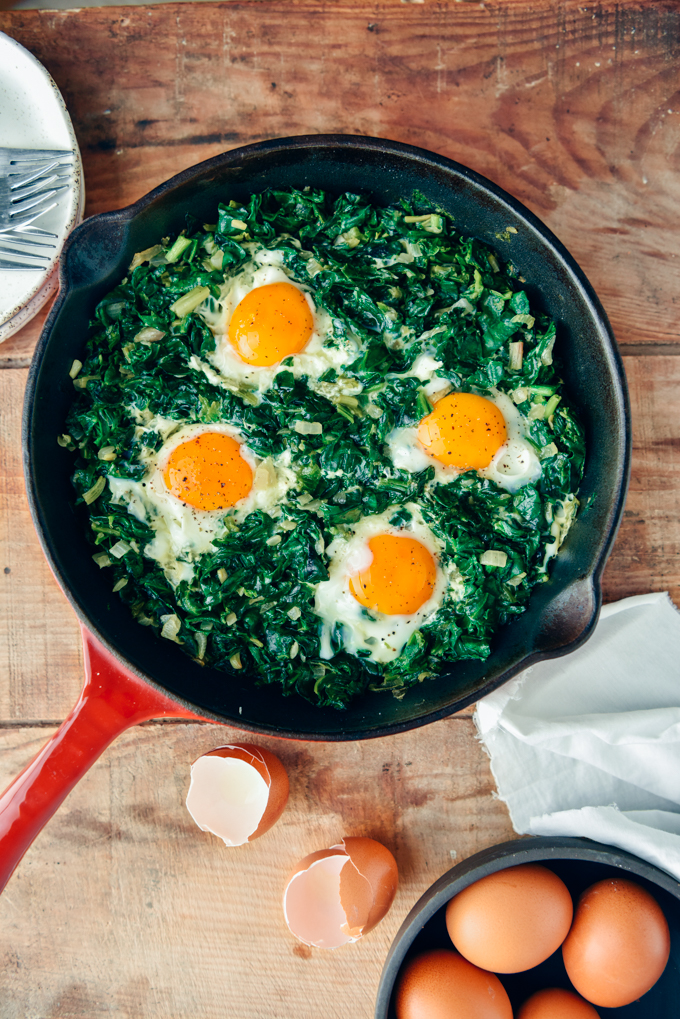chopped lettuce: (340, 218, 496, 366), (250, 499, 305, 654)
fried egg: (393, 399, 562, 514), (176, 287, 336, 399), (134, 400, 246, 554), (338, 519, 450, 656)
